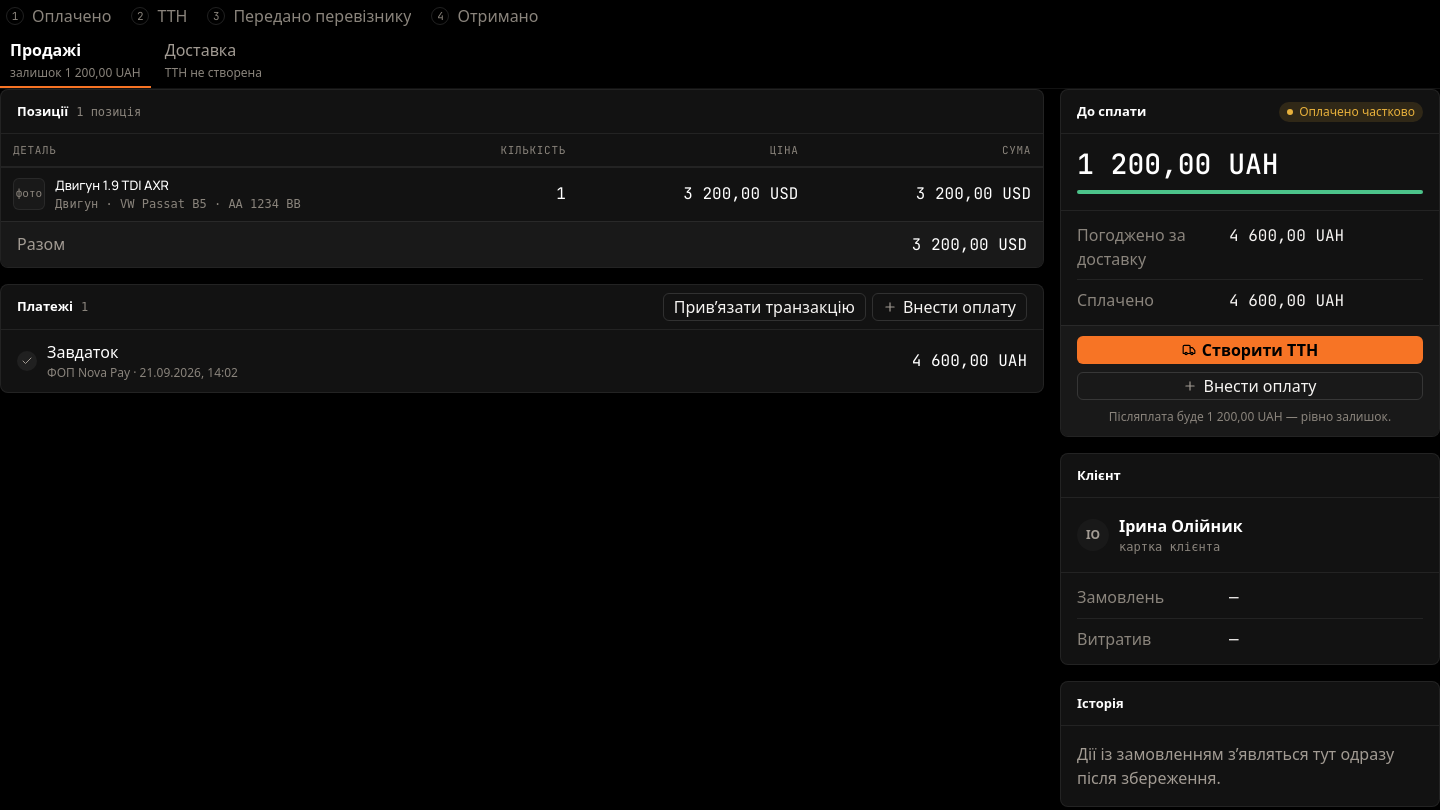
Test: lets an unpaid, uncalculated order reach the booking drawer
The width and height of the screenshot is (1440, 810).
What coordinates should you click on to do the following:
click the tab "Доставка ТТН не створена"
I would click on:
 (213, 60)
Its box is [155,32,272,88].
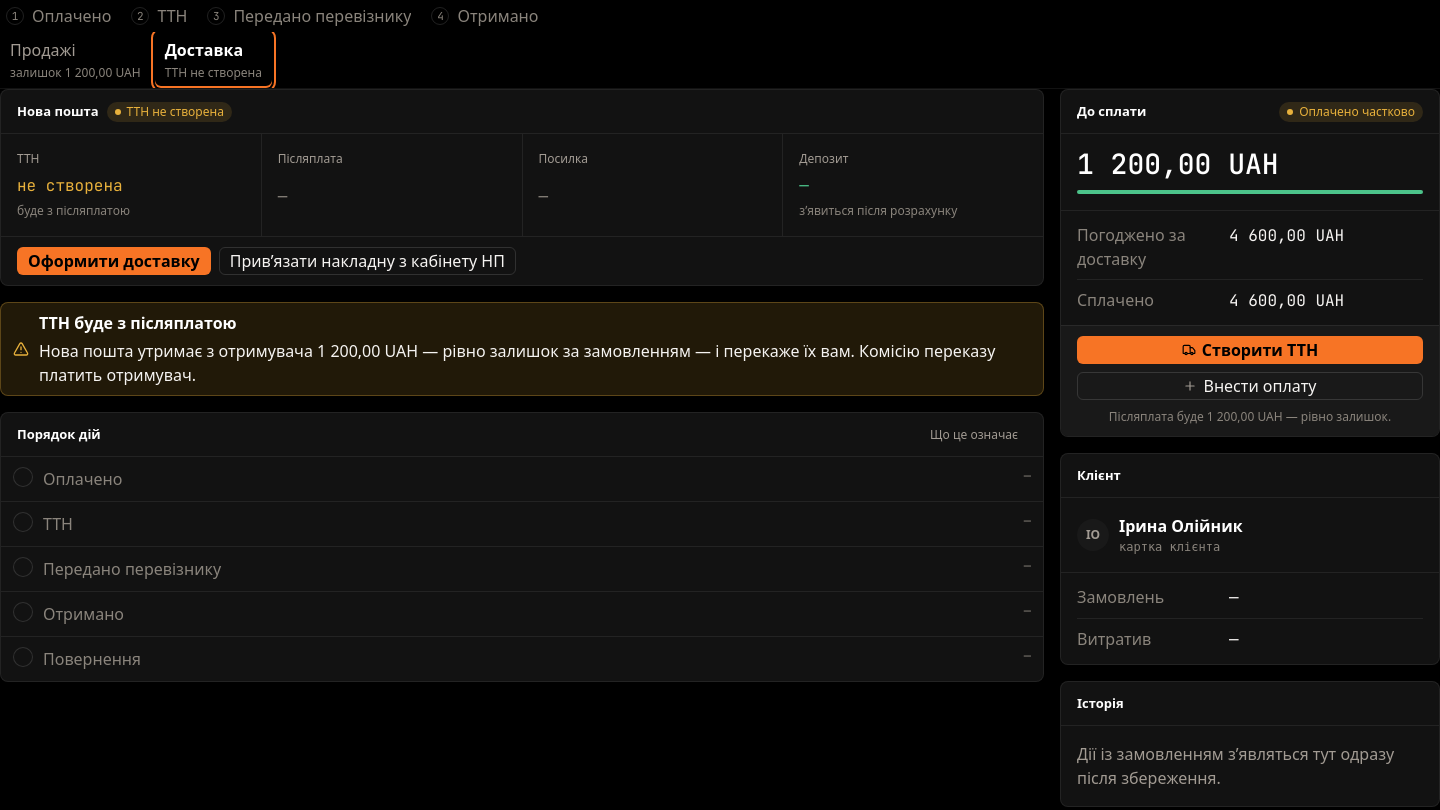
What coordinates should you click on to do the following:
click the button "Оформити доставку"
I would click on:
 (114, 261)
Its box is [17,247,211,275].
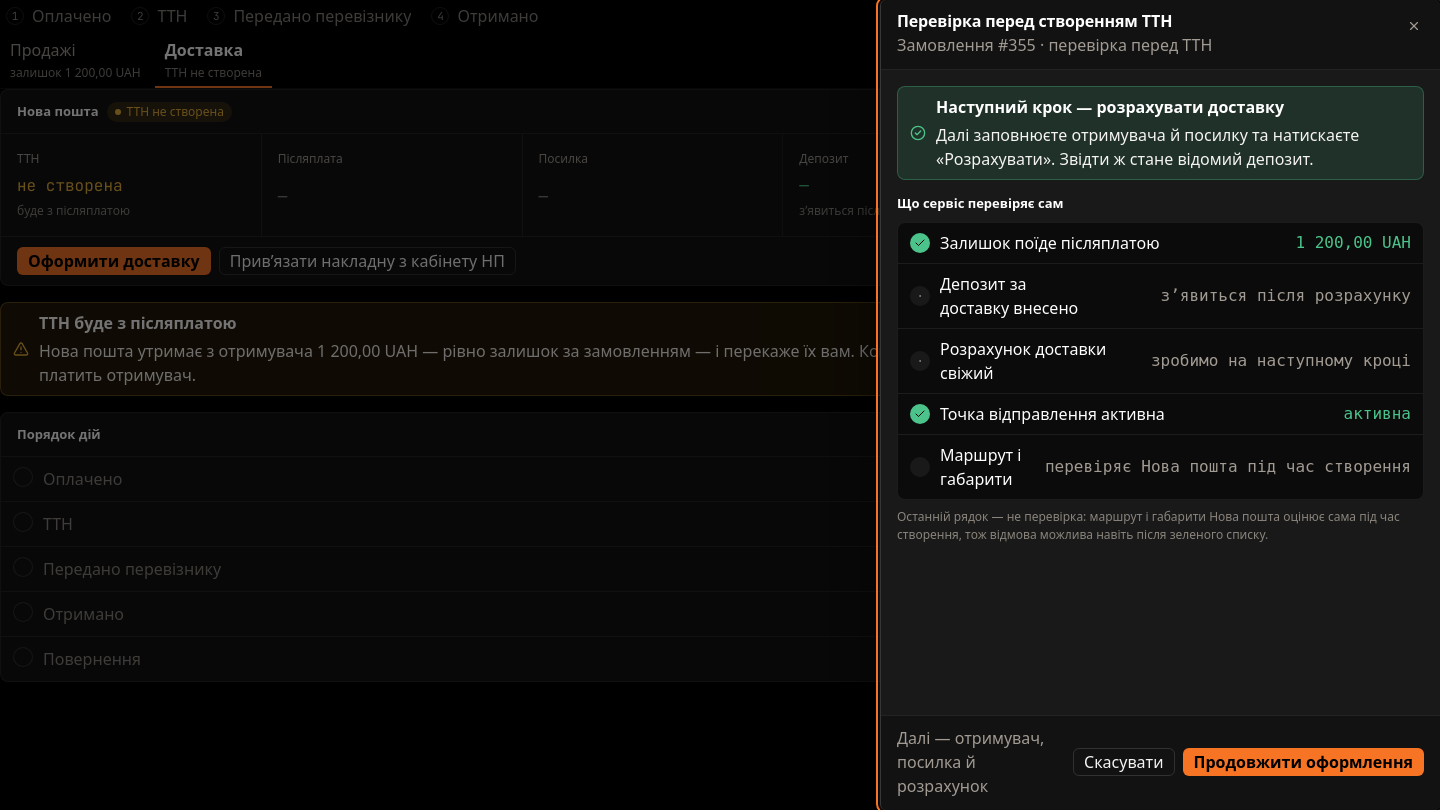
Check: the dialog "Перевірка перед створенням ТТН" shows "Наступний крок — розрахувати доставку", box [936,96,1284,118]
Check: the button "Продовжити оформлення" is enabled, box [1182,748,1424,776]
